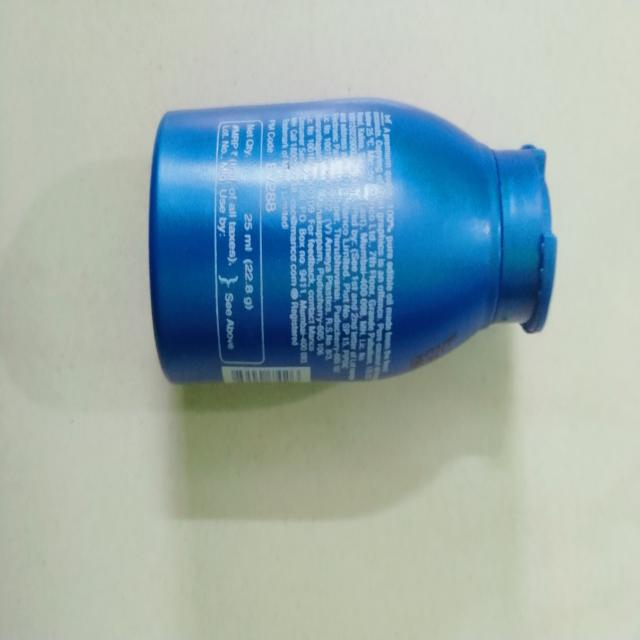oil: (141, 97, 557, 379)
